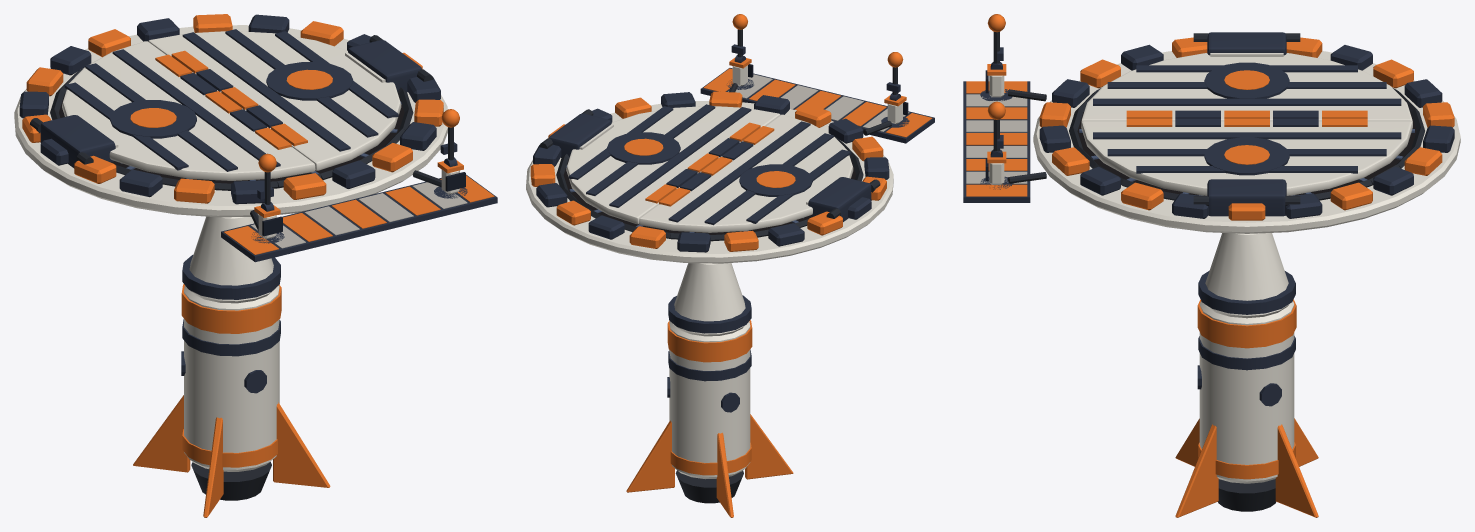
The model's file is missile_silo.fbx.
The picture shows the model from 3 angles, left to right: view 1: azimuth 30°, elevation 25°; view 2: azimuth 150°, elevation 25°; view 3: azimuth 270°, elevation 25°; orthographic projection. The views are drawn at different scales.
Visible parts, largest first — view 1: Body, Missile, Door_R, Door_L, Lever_R, Lever_L; view 2: Body, Missile, Door_R, Door_L, Lever_R, Lever_L; view 3: Body, Missile, Door_L, Door_R, Lever_L, Lever_R.
Boxes of the visible parts, x1,y1,x2,y2 form: Body: (14,14,497,262); Missile: (133,216,330,517); Door_R: (62,41,315,180); Door_L: (148,29,401,170); Lever_R: (257,153,276,211); Lever_L: (440,109,459,166); Body: (526,57,934,263); Missile: (626,263,793,517); Door_R: (639,114,853,232); Door_L: (566,104,780,224); Lever_R: (886,52,903,100); Lever_L: (731,14,747,62); Body: (963,32,1460,233); Missile: (1175,233,1318,517); Door_L: (1081,118,1412,195); Door_R: (1081,53,1412,123); Lever_L: (987,101,1005,157); Lever_R: (987,14,1005,69).
Size of the model in its own units: 14 by 15.97 by 16.3.
1 material, 1 textured.
